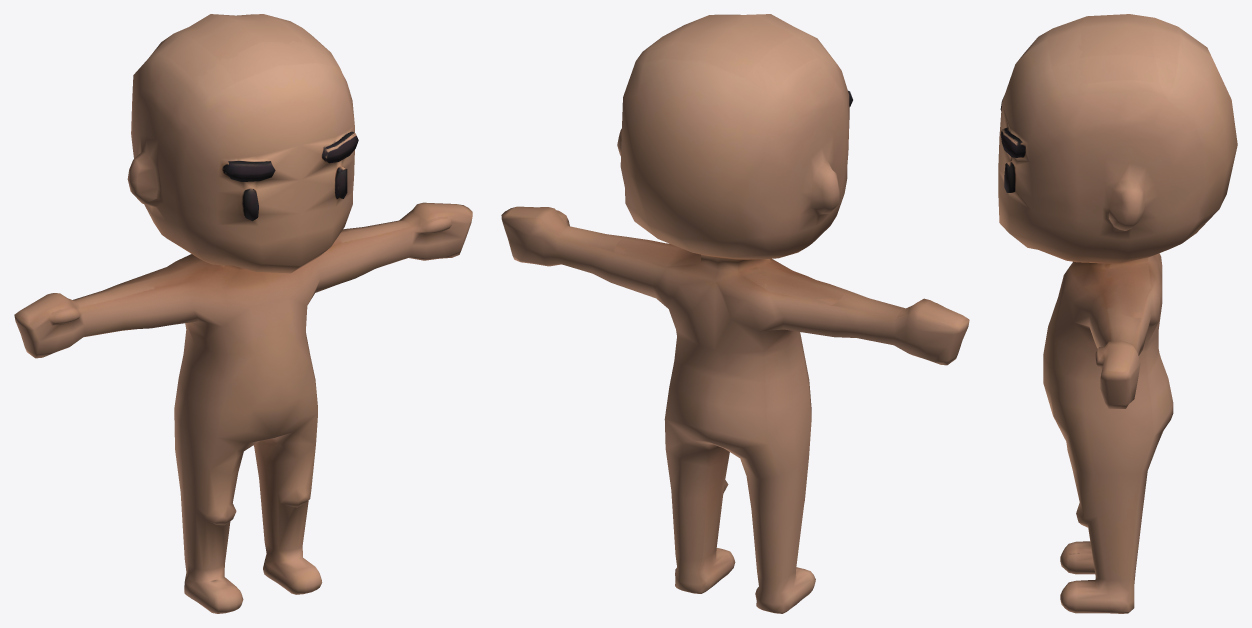
The model's file is cuerpo-F-tripo.glb.
3 views of the same model, side by side, from view 1: azimuth 30°, elevation 25°; view 2: azimuth 150°, elevation 25°; view 3: azimuth 270°, elevation 25° (orthographic). The views are drawn at different scales.
Parts seen in each view (by area): view 1: node_0; view 2: node_0; view 3: node_0.
Boxes of the visible parts, x1,y1,x2,y2 form: node_0: (14, 14, 472, 613); node_0: (501, 14, 969, 613); node_0: (998, 14, 1237, 613).
Bounding box in the file's own units: 0.8434 × 1 × 0.3855.
Materials: 1 (1 with a texture image).
